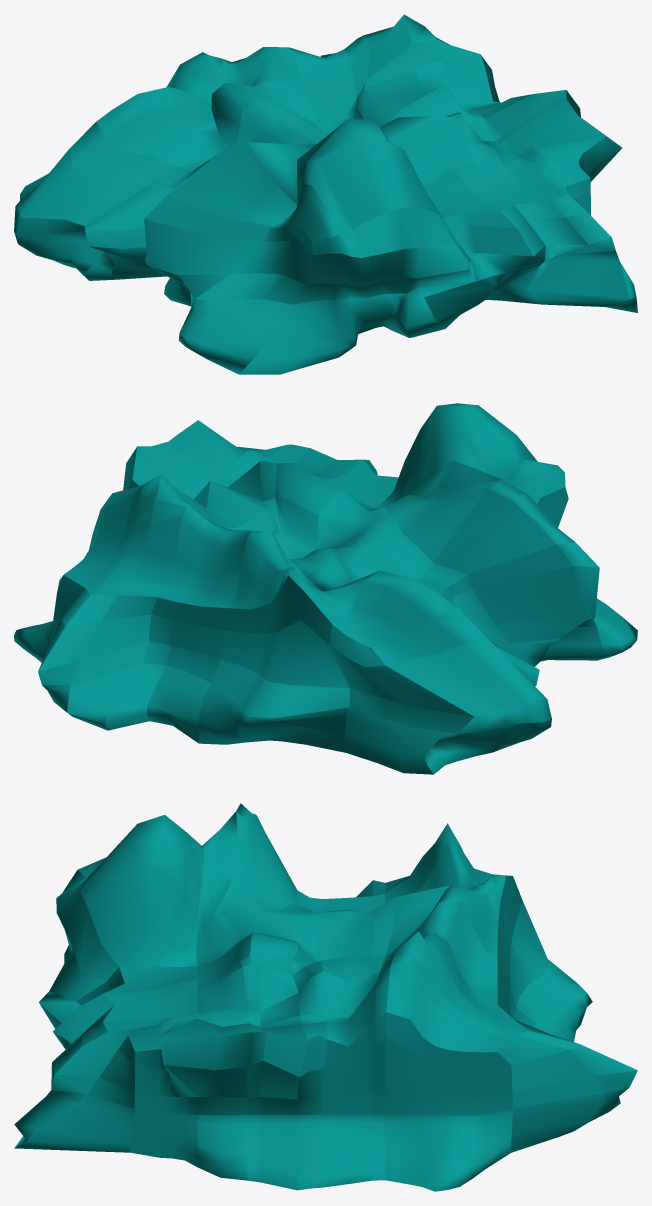
Rendered from fol_rock_02_uv.fbx.
3 views of the same model, one above another, from view 1: azimuth 30°, elevation 25°; view 2: azimuth 150°, elevation 25°; view 3: azimuth 270°, elevation 25° (orthographic). The views are drawn at different scales.
Visible parts, largest first — view 1: rock02; view 2: rock02; view 3: rock02.
Part boxes in pixels (bbox=[...]): rock02: bbox=[14, 14, 637, 374]; rock02: bbox=[14, 403, 637, 774]; rock02: bbox=[14, 803, 637, 1191].
Bounding box in the file's own units: 9.06 × 3.51 × 8.78.
